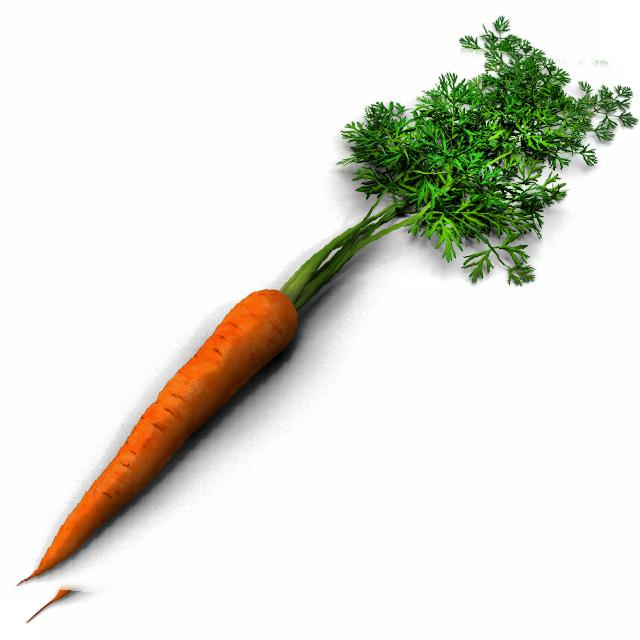carrot: (11, 23, 634, 624)
